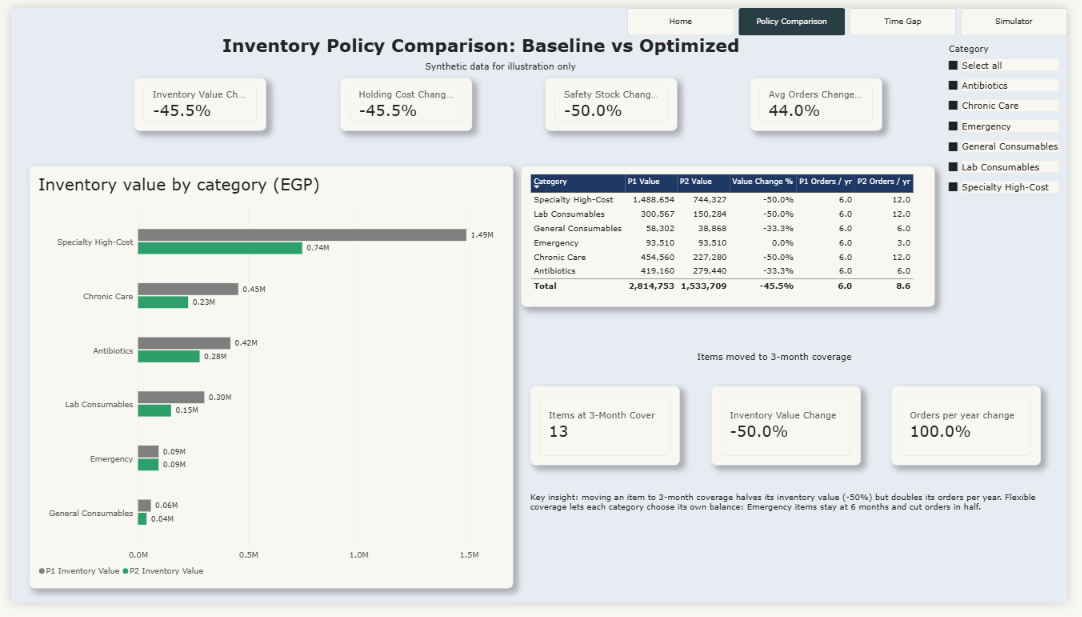

What the dashboard file says about the page in this screenshot:
{"tool":"powerbi","page":{"name":"Policy Comparison","canvas":[1920,1080],"ordinal":1},"visuals":[{"type":"textbox","box":[384,48,1024,80],"z":0},{"type":"textbox","box":[752,96,336,48],"z":1000},{"type":"cardVisual","fields":{"Data":["Policy_Results.Inventory Value Change %"]},"box":[224,128,240,96],"z":2000},{"type":"cardVisual","fields":{"Data":["Policy_Results.Holding Cost Change %"]},"box":[597.3,128,240,96],"z":3000},{"type":"cardVisual","fields":{"Data":["Policy_Results.Safety Stock Change %"]},"box":[970.7,128,240,96],"z":4000},{"type":"cardVisual","fields":{"Data":["Policy_Results.Avg Orders Change %"]},"box":[1344,128,240,96],"z":5000},{"type":"clusteredBarChart","title":"Inventory value by category (EGP)","fields":{"Category":["Policy_Results.Category"],"Y":["Policy_Results.P1 Inventory Value","Policy_Results.P2 Inventory Value"]},"box":[32,288,880,768],"z":6000},{"type":"slicer","fields":{"Values":["Policy_Results.Category"]},"box":[1696,64,208,336],"z":7000},{"type":"tableEx","fields":{"Values":["Policy_Results.Category","Policy_Results.P1 Inventory Value","Policy_Results.P2 Inventory Value","Policy_Results.Inventory Value Change %","Policy_Results.P1 Avg Orders per Item","Policy_Results.P2 Avg Orders per Item"]},"box":[928,288,752,256],"z":8000},{"type":"cardVisual","fields":{"Data":["Policy_Results.Items at 3-Month Cover"]},"box":[944,688,272,144],"z":9000},{"type":"cardVisual","fields":{"Data":["Policy_Results.Value Change % (3-Month Items)"]},"box":[1272,688,272,144],"z":10000},{"type":"cardVisual","fields":{"Data":["Policy_Results.Orders Change % (3-Month Items)"]},"box":[1600,688,272,144],"z":11000},{"type":"textbox","box":[1248,624,416,32],"z":12000},{"type":"textbox","box":[944,880,928,112],"z":13000},{"type":"pageNavigator","box":[1120,0,800,50],"z":14000}]}

Visuals, with their boxes in screenshot pixels (x1, y1, x2, y2), scaled from the page's 1920x1080 canvas onto the 1082x617 screenshot:
textbox: x1=216, y1=27, x2=793, y2=73
textbox: x1=424, y1=55, x2=613, y2=82
cardVisual - Policy_Results.Inventory Value Change %: x1=126, y1=73, x2=261, y2=128
cardVisual - Policy_Results.Holding Cost Change %: x1=337, y1=73, x2=472, y2=128
cardVisual - Policy_Results.Safety Stock Change %: x1=547, y1=73, x2=682, y2=128
cardVisual - Policy_Results.Avg Orders Change %: x1=757, y1=73, x2=893, y2=128
"Inventory value by category (EGP)" clusteredBarChart: x1=18, y1=165, x2=514, y2=603
slicer - Policy_Results.Category: x1=956, y1=37, x2=1073, y2=229
tableEx - Policy_Results.Category x Policy_Results.P1 Inventory Value: x1=523, y1=165, x2=947, y2=311
cardVisual - Policy_Results.Items at 3-Month Cover: x1=532, y1=393, x2=685, y2=475
cardVisual - Policy_Results.Value Change % (3-Month Items): x1=717, y1=393, x2=870, y2=475
cardVisual - Policy_Results.Orders Change % (3-Month Items): x1=902, y1=393, x2=1055, y2=475
textbox: x1=703, y1=356, x2=938, y2=375
textbox: x1=532, y1=503, x2=1055, y2=567
pageNavigator: x1=631, y1=0, x2=1081, y2=29
